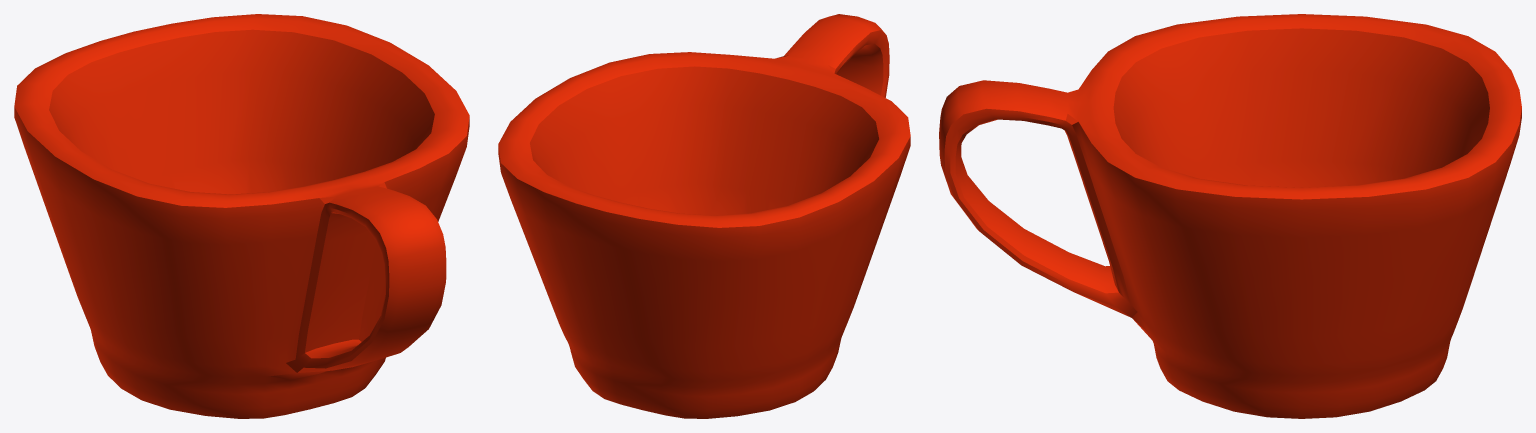
The model's file is TeaCup.fbx.
The picture shows the model from 3 angles, left to right: view 1: azimuth 30°, elevation 25°; view 2: azimuth 150°, elevation 25°; view 3: azimuth 270°, elevation 25°; orthographic projection. The views are drawn at different scales.
Visible parts, largest first — view 1: teacup; view 2: teacup; view 3: teacup.
Part boxes in pixels (left/top/right/bottom): teacup: left=14, top=14, right=469, bottom=418; teacup: left=498, top=14, right=910, bottom=418; teacup: left=939, top=14, right=1521, bottom=418.
Size of the model in its own units: 118 by 82.19 by 157.
